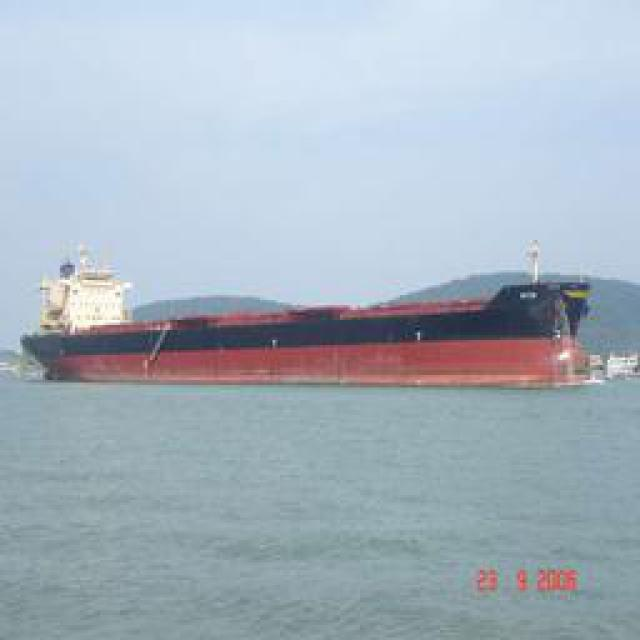Ship: (25, 246, 613, 389)
